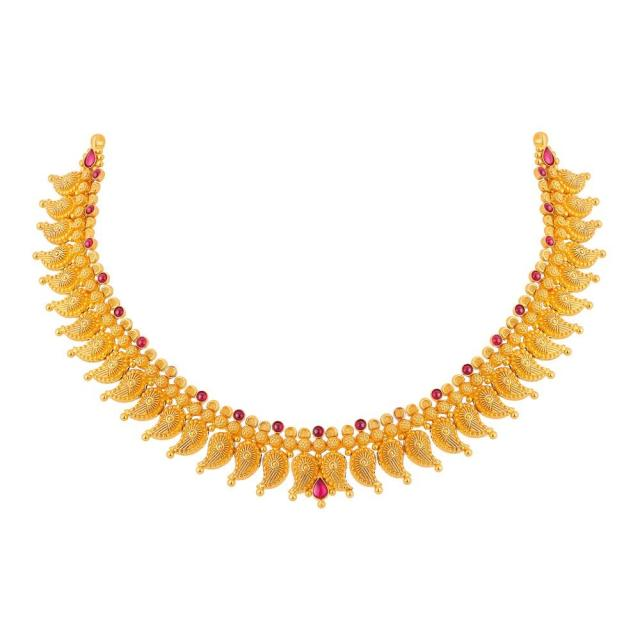missing gem: (166, 367, 176, 377), (396, 408, 405, 418)
